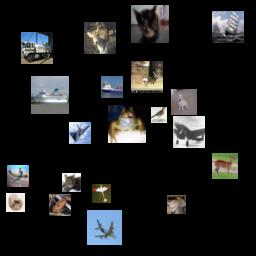airplane: (87, 210, 122, 245), (173, 116, 205, 148), (69, 122, 91, 144), (7, 165, 29, 187), (92, 184, 111, 203)
bird: (151, 107, 167, 123)
cat: (131, 5, 169, 43), (62, 173, 81, 192), (167, 195, 186, 214)
deer: (131, 61, 163, 93), (84, 22, 116, 54), (212, 153, 238, 179)
dog: (171, 89, 197, 115), (6, 193, 25, 212)
frog: (108, 105, 146, 143), (49, 194, 71, 216)
ship: (31, 76, 69, 114), (212, 11, 244, 43), (101, 76, 123, 98)
truck: (21, 32, 53, 64)
